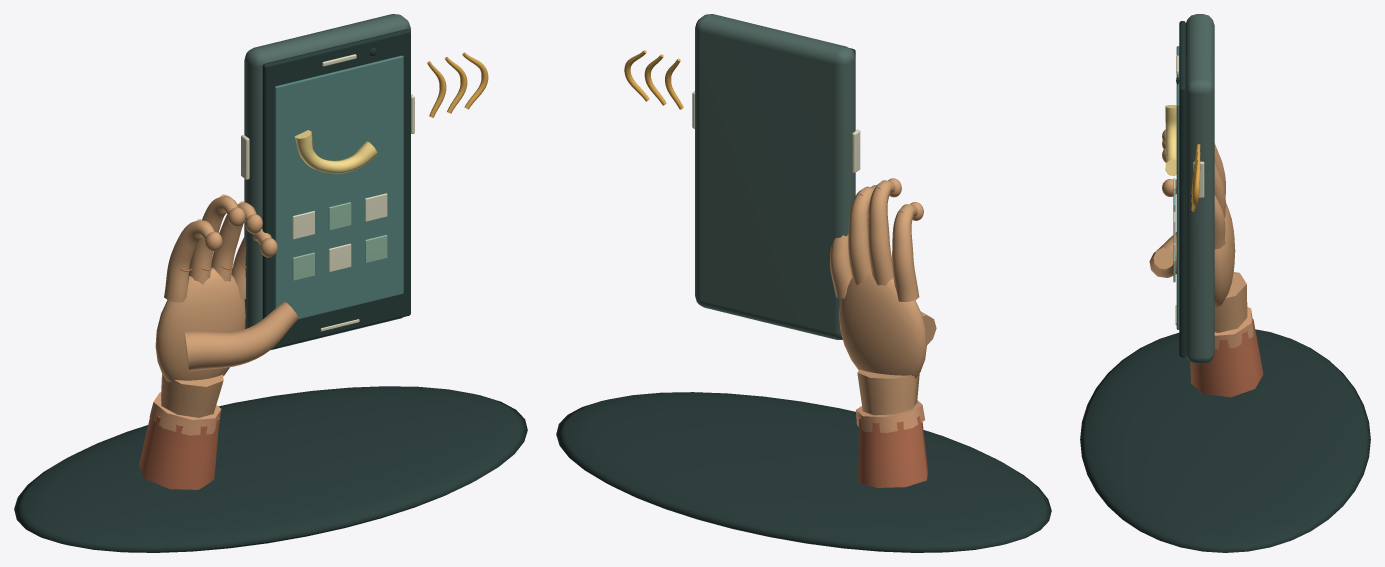
File: phone.glb
The picture shows the model from 3 angles, left to right: view 1: azimuth 30°, elevation 25°; view 2: azimuth 150°, elevation 25°; view 3: azimuth 270°, elevation 25°; orthographic projection. The views are drawn at different scales.
Visible parts, largest first — view 1: phone_surface_00, phone_surface_07, phone_surface_01, phone_surface_06, phone_surface_02, phone_surface_08, phone_surface_09, phone_surface_10, phone_surface_03, phone_surface_11; view 2: phone_surface_00, phone_surface_06, phone_surface_01, phone_surface_02, phone_surface_03, phone_surface_11; view 3: phone_surface_00, phone_surface_06, phone_surface_01, phone_surface_02, phone_surface_07, phone_surface_10, phone_surface_03, phone_surface_08, phone_surface_11.
Part boxes in pixels (<box>): phone_surface_00: <box>14,29,527,552</box>; phone_surface_07: <box>274,55,403,319</box>; phone_surface_01: <box>155,195,298,417</box>; phone_surface_06: <box>244,14,410,350</box>; phone_surface_02: <box>139,415,219,489</box>; phone_surface_08: <box>241,54,414,331</box>; phone_surface_09: <box>292,202,387,280</box>; phone_surface_10: <box>294,130,377,173</box>; phone_surface_03: <box>149,392,221,435</box>; phone_surface_11: <box>427,52,488,117</box>; phone_surface_00: <box>556,48,1051,552</box>; phone_surface_06: <box>695,14,855,339</box>; phone_surface_01: <box>830,178,936,415</box>; phone_surface_02: <box>858,416,928,487</box>; phone_surface_03: <box>856,400,924,432</box>; phone_surface_11: <box>624,50,683,109</box>; phone_surface_00: <box>1080,21,1370,552</box>; phone_surface_06: <box>1185,14,1214,364</box>; phone_surface_01: <box>1149,129,1247,332</box>; phone_surface_02: <box>1190,318,1263,397</box>; phone_surface_07: <box>1176,46,1179,329</box>; phone_surface_10: <box>1165,105,1176,175</box>; phone_surface_03: <box>1214,307,1253,349</box>; phone_surface_08: <box>1173,55,1204,325</box>; phone_surface_11: <box>1191,144,1200,211</box>.
Bounding box in the file's own units: 4.2 × 3.7 × 2.28.
